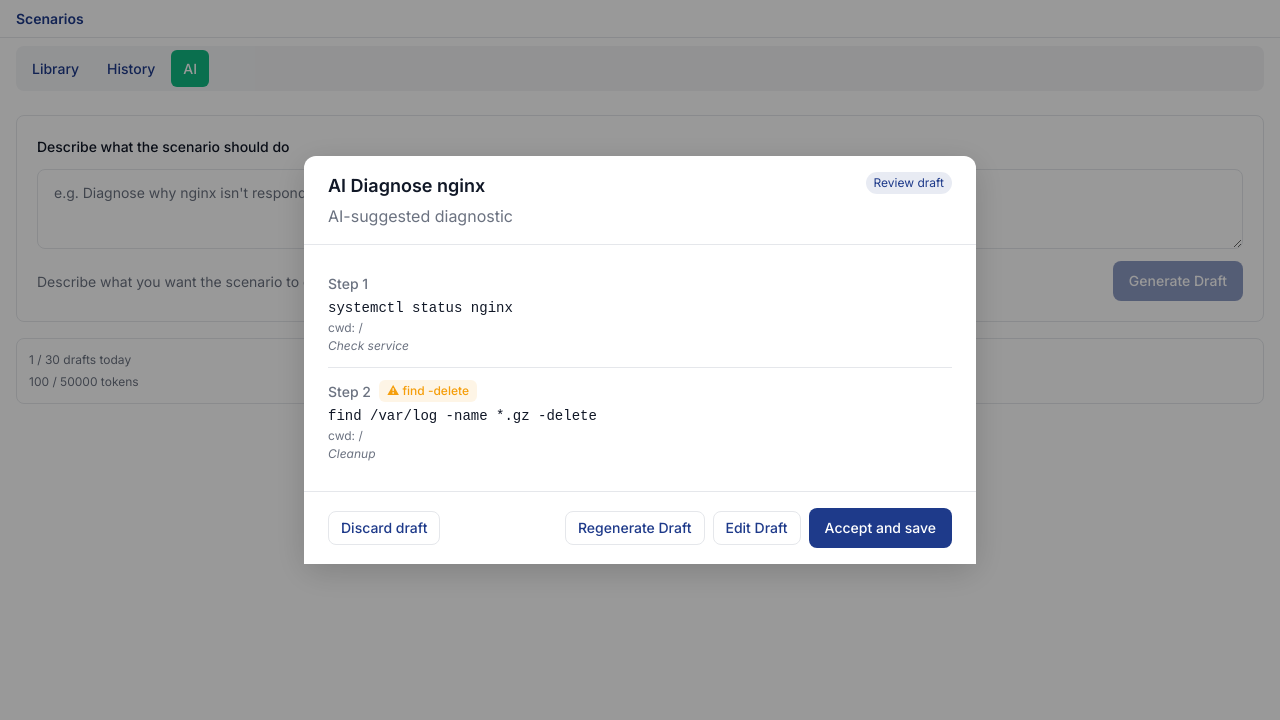
Test: ScenariosPanel — DraftReviewModal flow › [Discard draft] closes modal without saving
The image size is (1280, 720).
expect the element with test id "scenarios-ai-segment" is shown: met, box [0,99,1279,420]
Click the button with test id "draft-review-discard" at (384, 528), box [328,511,440,545]
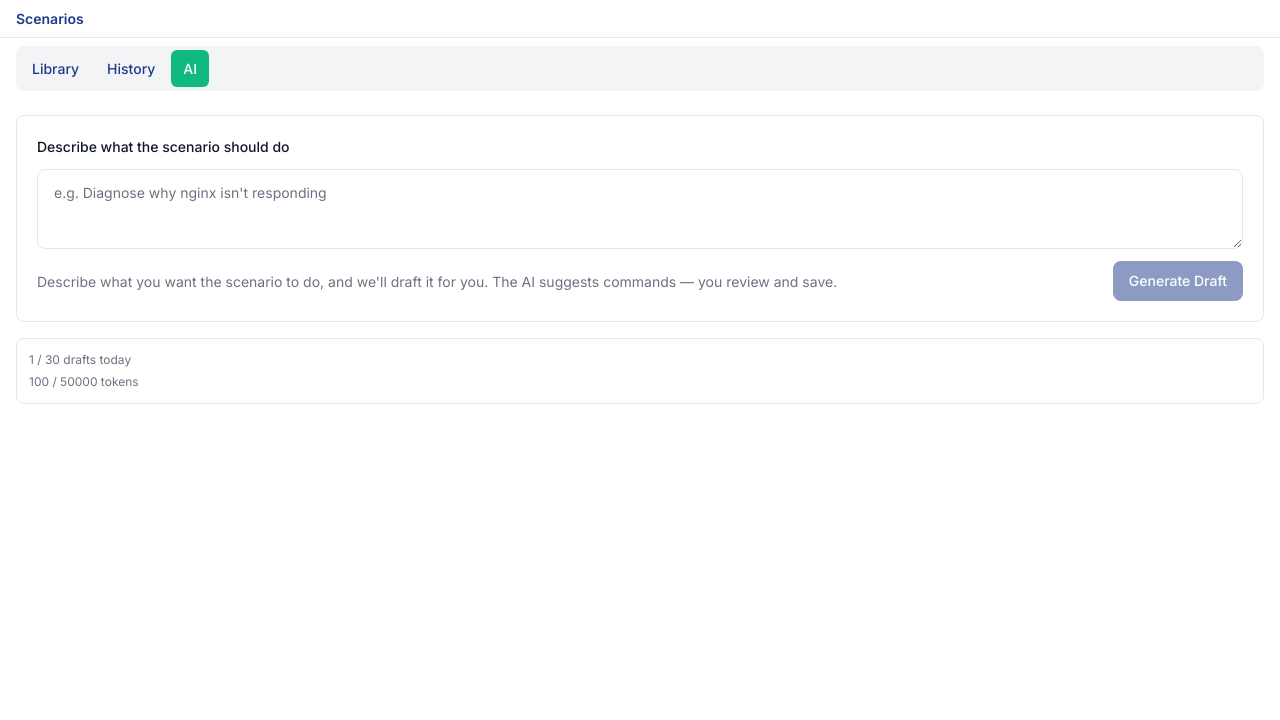
expect the element with test id "scenarios-ai-segment" is shown: met, box [0,99,1279,420]
expect the dialog with test id "draft-review-backdrop" is gone: met
